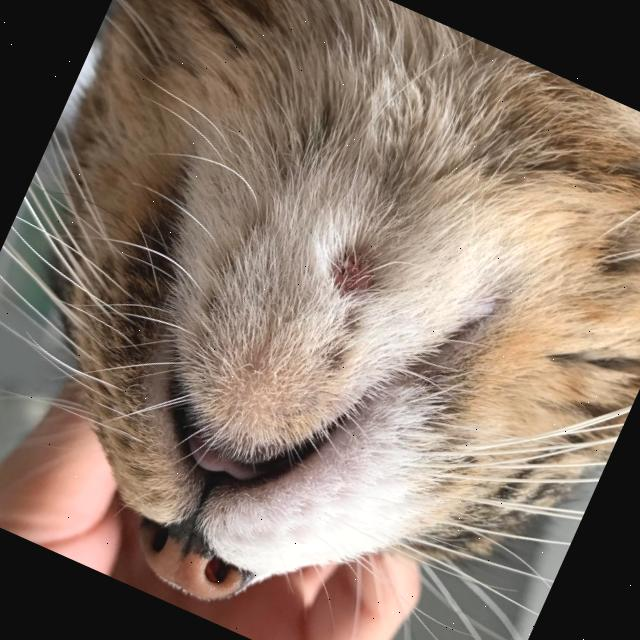cat-acne: (318, 235, 392, 312)
